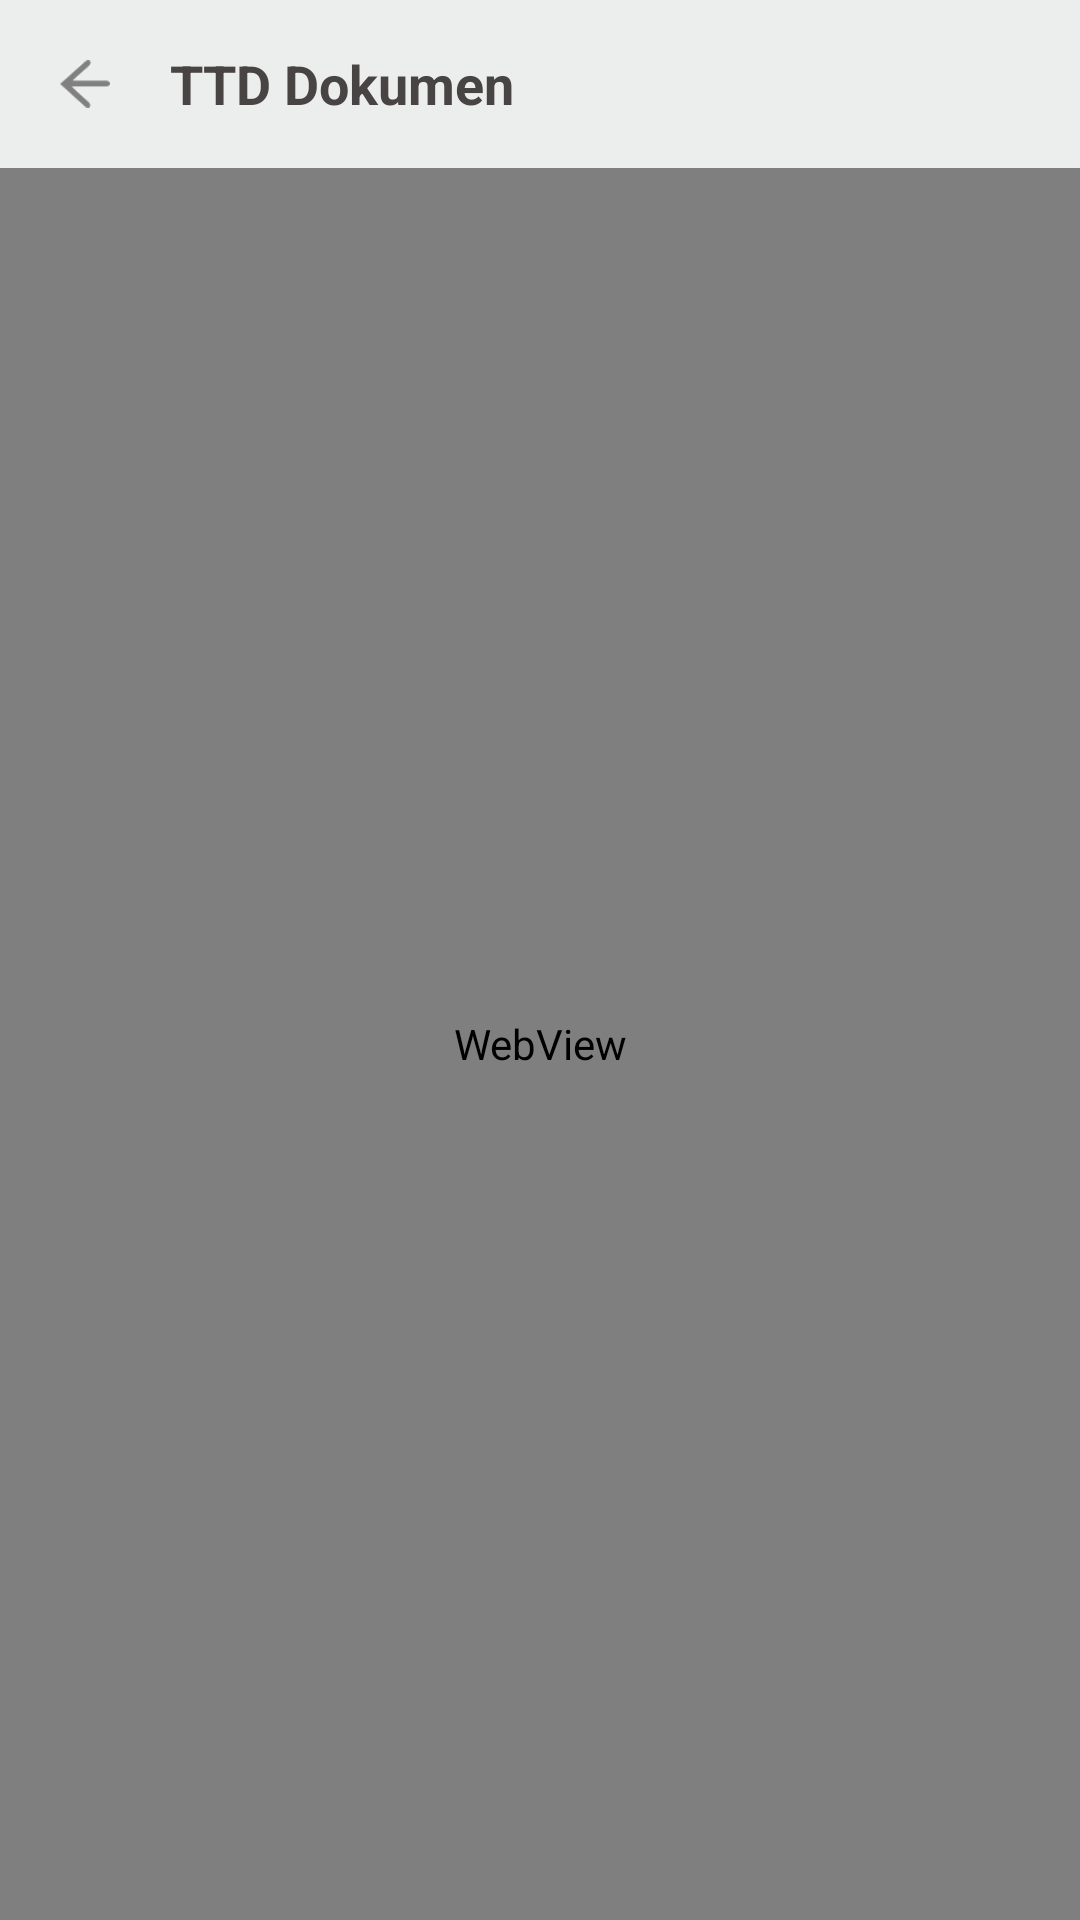

Named icons in this screenshot (1080px×1920px) and their centers, (x,y):
back: (85,84)
